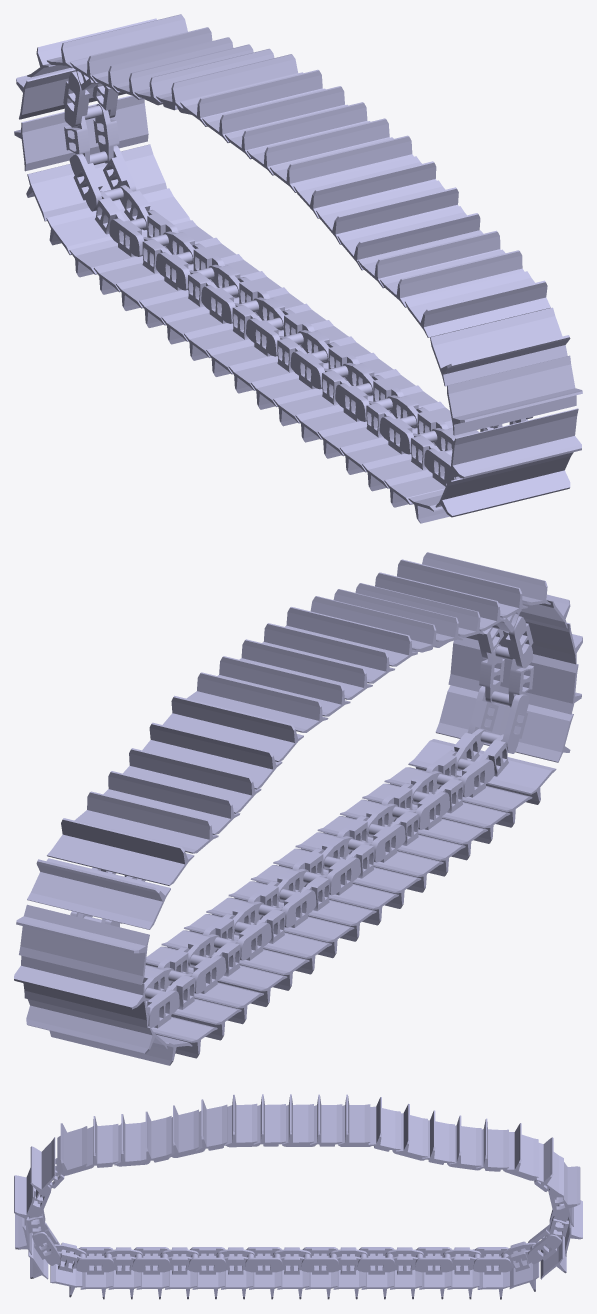
File: Earthmover_Track_01a_snaps005.fbx
3 views of the same model, one above another, from view 1: azimuth 30°, elevation 25°; view 2: azimuth 150°, elevation 25°; view 3: azimuth 270°, elevation 25° (orthographic). The views are drawn at different scales.
Parts seen in each view (by area): view 1: Earthmover_TrackB_04a_snaps005, Earthmover_TrackA_015a_snaps005, Earthmover_TrackB_09a_snaps005, Earthmover_TrackA_04a_snaps005, Earthmover_TrackB_015a_snaps005, Earthmover_TrackA_014a_snaps005, Earthmover_TrackA_016a_snaps005, Earthmover_TrackB_017a_snaps005, Earthmover_TrackA_012a_snaps005, Earthmover_TrackB_019a_snaps005, Earthmover_TrackB_08a_snaps005, Earthmover_TrackB_05a_snaps005 (+30 smaller); view 2: Earthmover_TrackA_05a_snaps005, Earthmover_TrackB_013a_snaps005, Earthmover_TrackB_015a_snaps005, Earthmover_TrackA_016a_snaps005, Earthmover_TrackA_06a_snaps005, Earthmover_TrackB_09a_snaps005, Earthmover_TrackB_014a_snaps005, Earthmover_TrackB_012a_snaps005, Earthmover_TrackB_021a_snaps005, Earthmover_TrackA_08a_snaps005, Earthmover_TrackA_09a_snaps005, Earthmover_TrackB_011a_snaps005 (+30 smaller); view 3: Earthmover_TrackA_014a_snaps005, Earthmover_TrackA_03a_snaps005, Earthmover_TrackA_017a_snaps005, Earthmover_TrackA_06a_snaps005, Earthmover_TrackA_02a_snaps005, Earthmover_TrackA_011a_snaps005, Earthmover_TrackB_05a_snaps005, Earthmover_TrackA_01a_snaps005, Earthmover_TrackA_021a_snaps005, Earthmover_TrackA_018a_snaps005, Earthmover_TrackA_019a_snaps005, Earthmover_TrackA_020a_snaps005 (+30 smaller).
Part boxes in pixels (x1,y1,x2,y2): Earthmover_TrackB_04a_snaps005: (430,307,570,386); Earthmover_TrackA_015a_snaps005: (447,355,582,435); Earthmover_TrackB_09a_snaps005: (14,95,148,171); Earthmover_TrackA_04a_snaps005: (26,144,166,221); Earthmover_TrackB_015a_snaps005: (448,408,581,478); Earthmover_TrackA_014a_snaps005: (405,271,550,337); Earthmover_TrackA_016a_snaps005: (435,452,573,517); Earthmover_TrackB_017a_snaps005: (46,185,190,255); Earthmover_TrackA_012a_snaps005: (316,180,458,244); Earthmover_TrackB_019a_snaps005: (293,156,436,218); Earthmover_TrackB_08a_snaps005: (337,206,480,270); Earthmover_TrackB_05a_snaps005: (380,249,524,307); Earthmover_TrackA_05a_snaps005: (16,904,149,984); Earthmover_TrackB_013a_snaps005: (27,858,170,929); Earthmover_TrackB_015a_snaps005: (448,636,581,714); Earthmover_TrackA_016a_snaps005: (435,685,573,762); Earthmover_TrackA_06a_snaps005: (47,818,194,885); Earthmover_TrackB_09a_snaps005: (14,955,148,1027); Earthmover_TrackB_014a_snaps005: (74,791,218,853); Earthmover_TrackB_012a_snaps005: (162,695,303,761); Earthmover_TrackB_021a_snaps005: (408,728,556,804); Earthmover_TrackA_08a_snaps005: (142,722,282,789); Earthmover_TrackA_09a_snaps005: (186,672,328,732); Earthmover_TrackB_011a_snaps005: (123,748,261,813); Earthmover_TrackA_014a_snaps005: (57,1123,93,1175); Earthmover_TrackA_03a_snaps005: (473,1247,511,1299); Earthmover_TrackA_017a_snaps005: (76,1247,114,1299); Earthmover_TrackA_06a_snaps005: (503,1123,538,1180); Earthmover_TrackA_02a_snaps005: (415,1247,453,1299); Earthmover_TrackA_011a_snaps005: (225,1094,259,1147); Earthmover_TrackB_05a_snaps005: (86,1116,118,1167); Earthmover_TrackA_01a_snaps005: (357,1247,395,1299); Earthmover_TrackA_021a_snaps005: (301,1247,339,1299); Earthmover_TrackA_018a_snaps005: (132,1247,170,1299); Earthmover_TrackA_019a_snaps005: (188,1247,226,1299); Earthmover_TrackA_020a_snaps005: (245,1247,282,1299).
Bounding box in the file's own units: 72.41 × 151 × 462.
